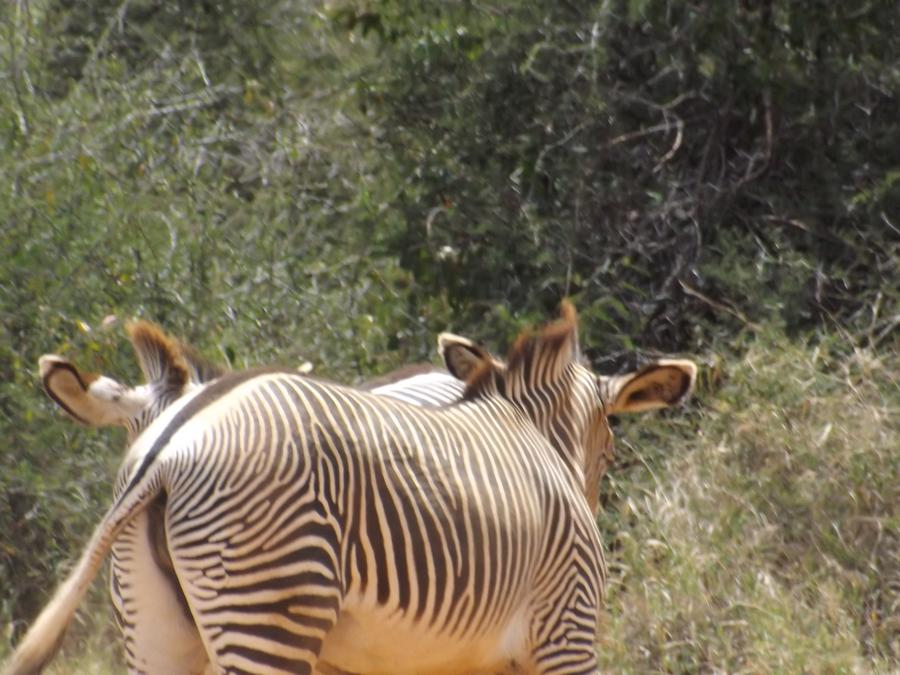zebra_grevys: (156, 367, 602, 642)
